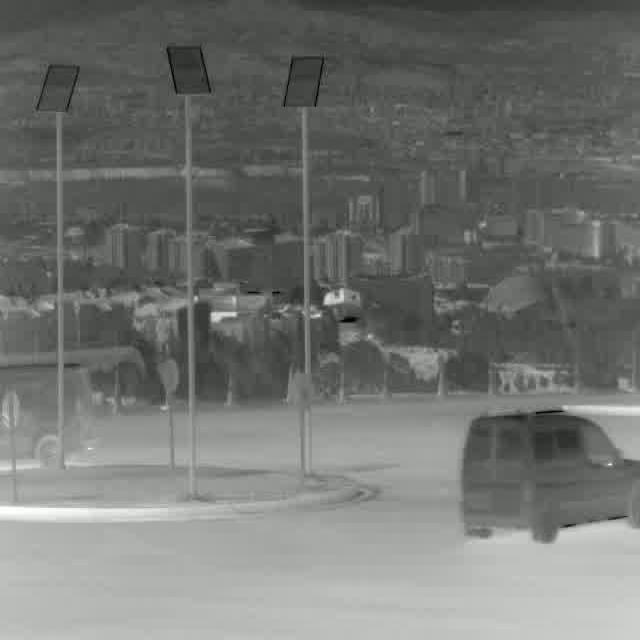Car: (460, 412, 640, 536), (0, 364, 93, 464)
